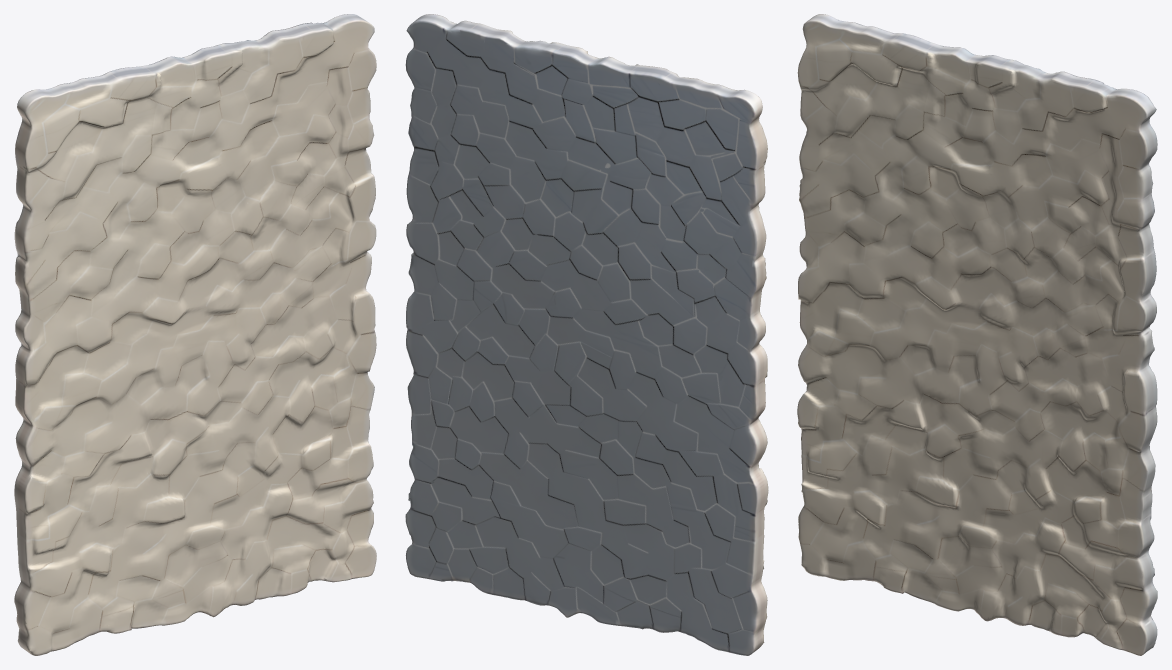
Rendered from 大地毯 (2).fbx.
The picture shows the model from 3 angles, left to right: view 1: azimuth 30°, elevation 25°; view 2: azimuth 150°, elevation 25°; view 3: azimuth 330°, elevation 25°; orthographic projection.
Visible parts, largest first — view 1: model; view 2: model; view 3: model.
Part boxes in pixels (x1=…): model: x1=14, y1=14, x2=376, y2=655; model: x1=405, y1=14, x2=768, y2=655; model: x1=797, y1=14, x2=1157, y2=655.
Size of the model in its own units: 116 by 177 by 6.8.
Materials: 1 (1 with a texture image).
